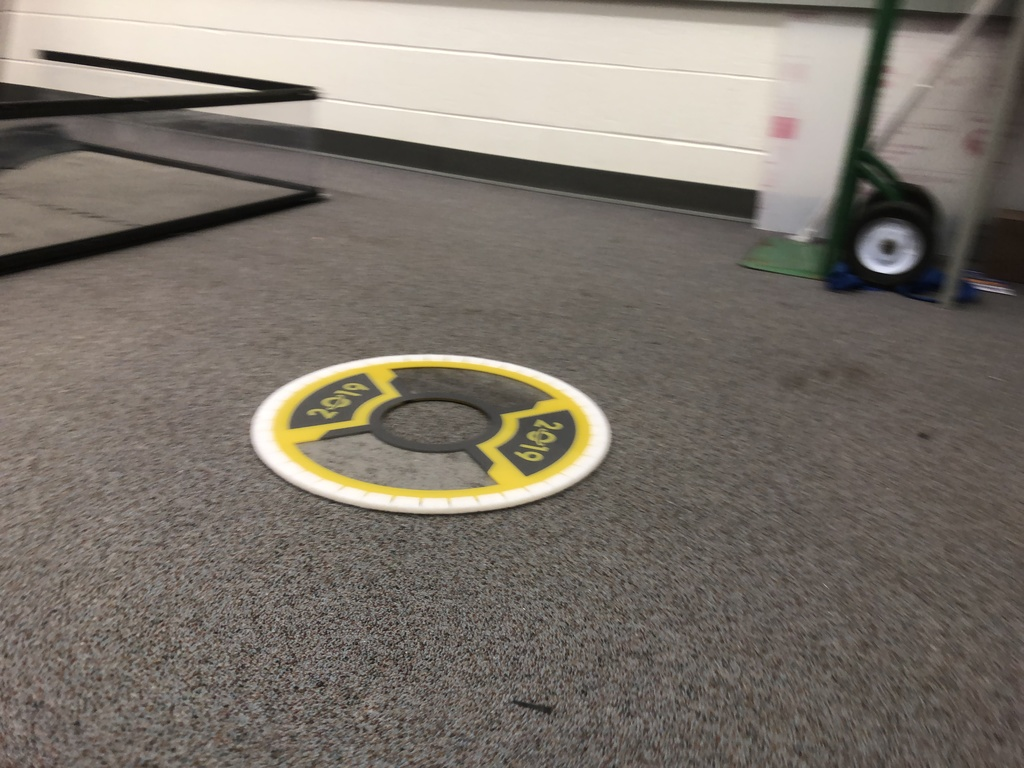hatch_panel: (238, 338, 620, 511)
